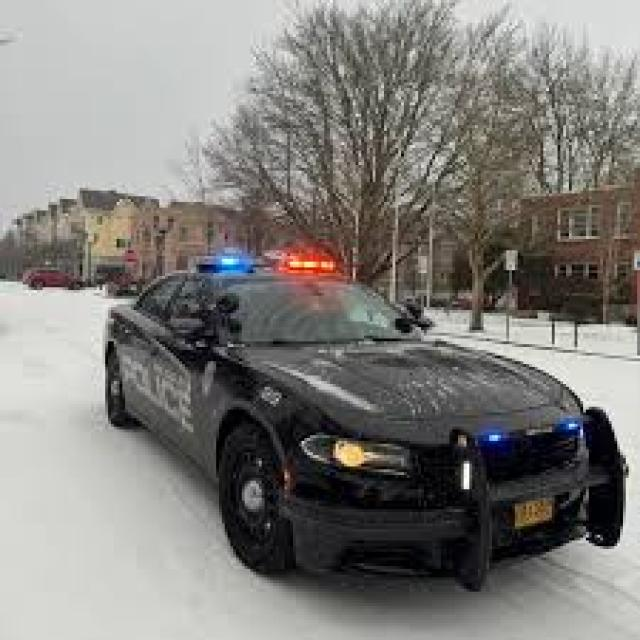cop: (100, 244, 626, 596)
